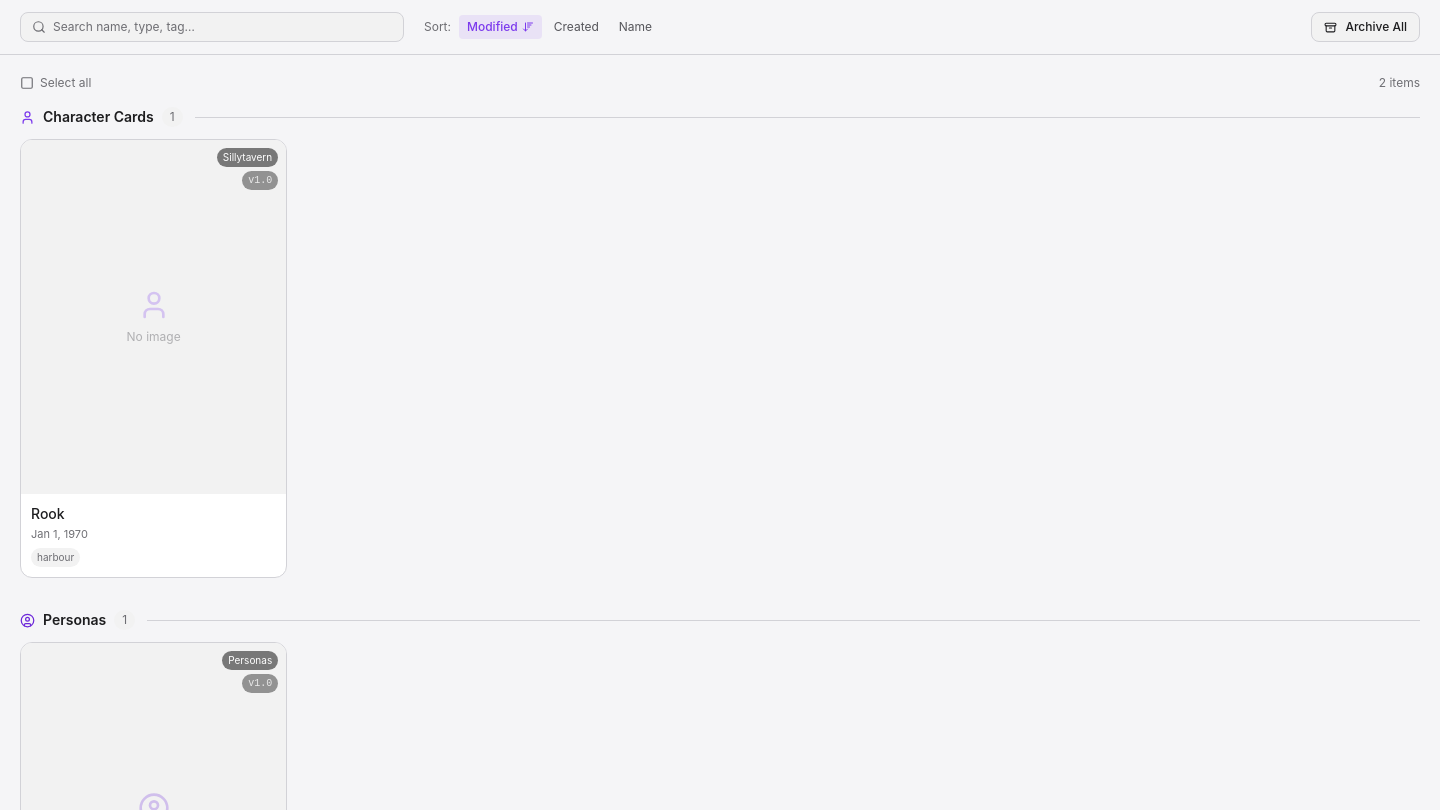
it: Library › says what went wrong when the archive cannot be built
The width and height of the screenshot is (1440, 810).
Click the button "Archive All" at (1366, 27), box [1311,12,1420,42]
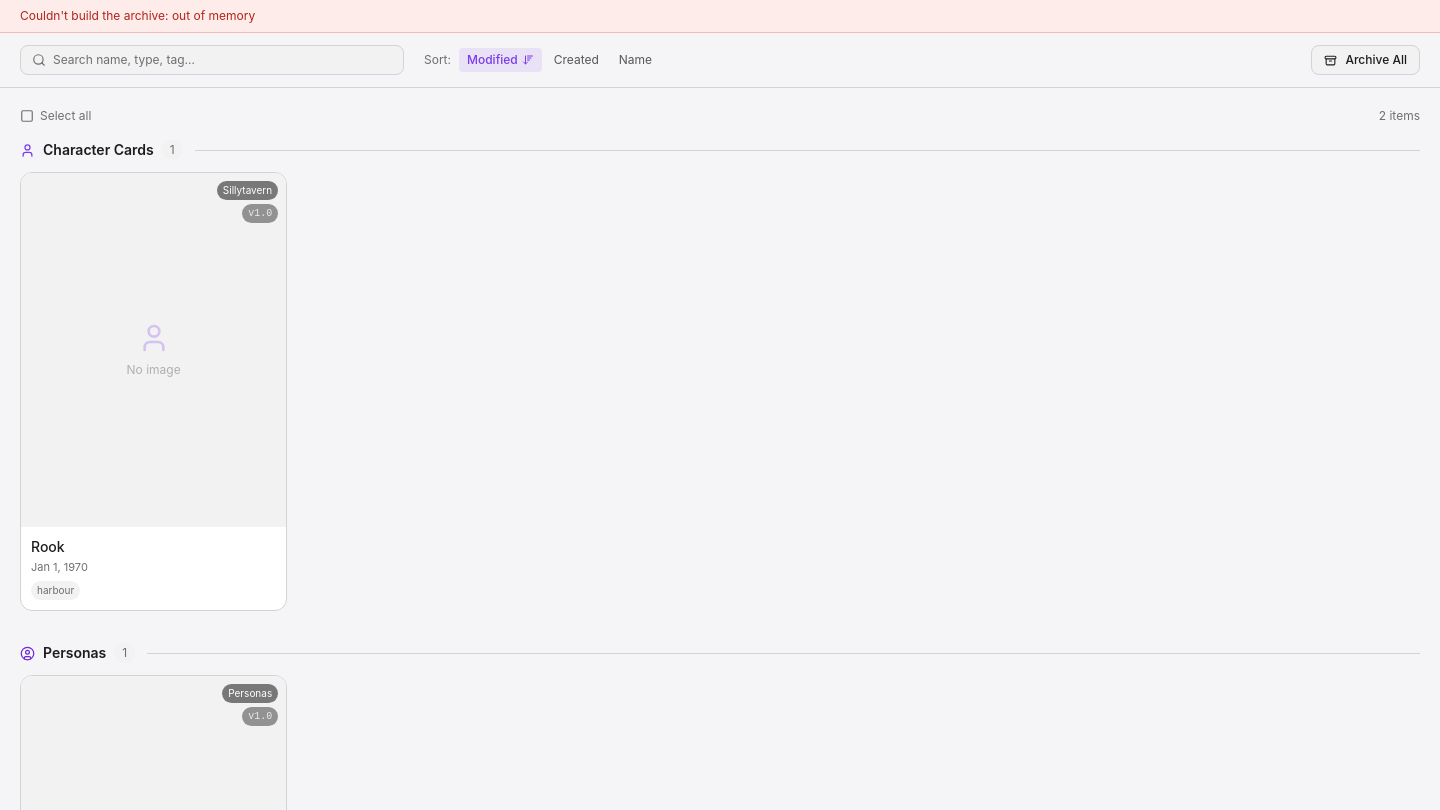
Expected: the button "Archive All" is enabled, [1311,45,1420,75]
Expected: the text "Couldn't build the archive: out of memory" is shown, [0,0,1439,33]
